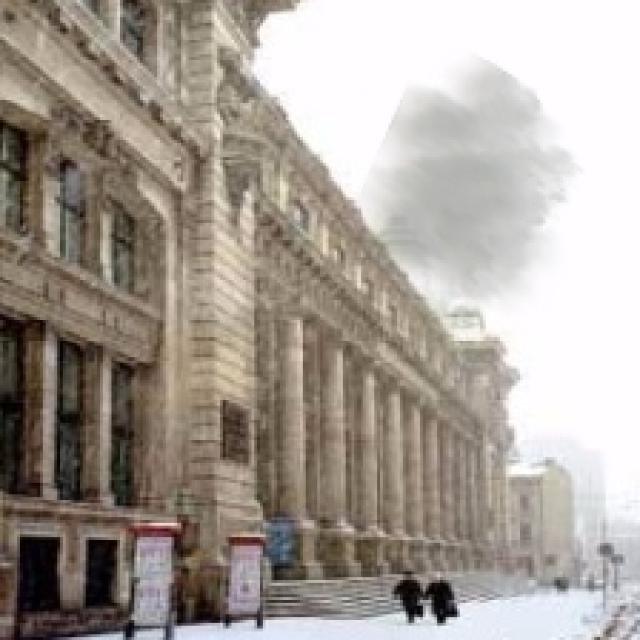Smoke: (343, 49, 586, 318)
